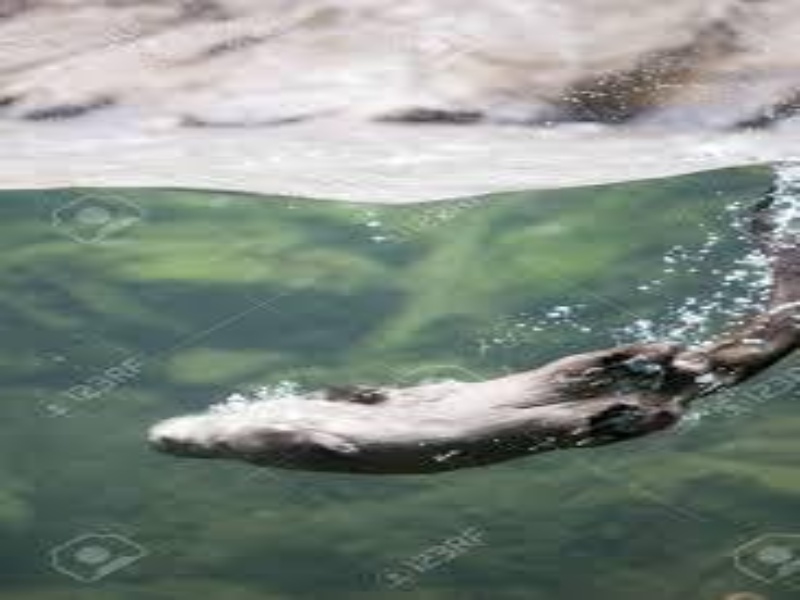minkish: (138, 200, 800, 465)
